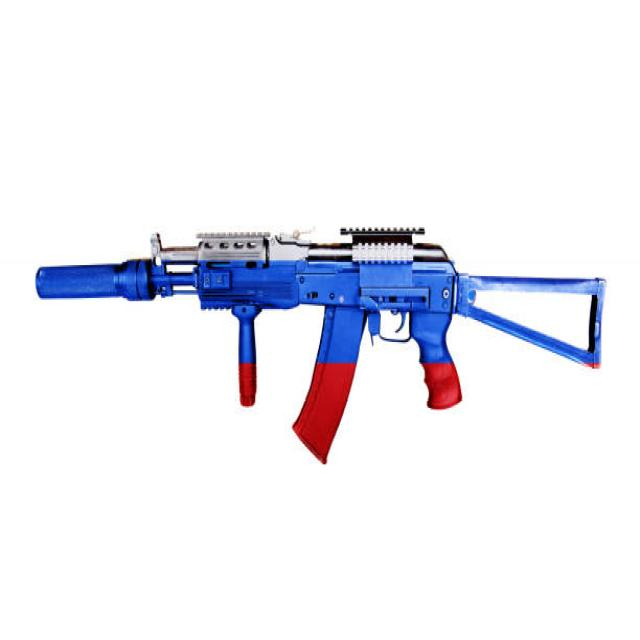rifle: (28, 214, 622, 476)
